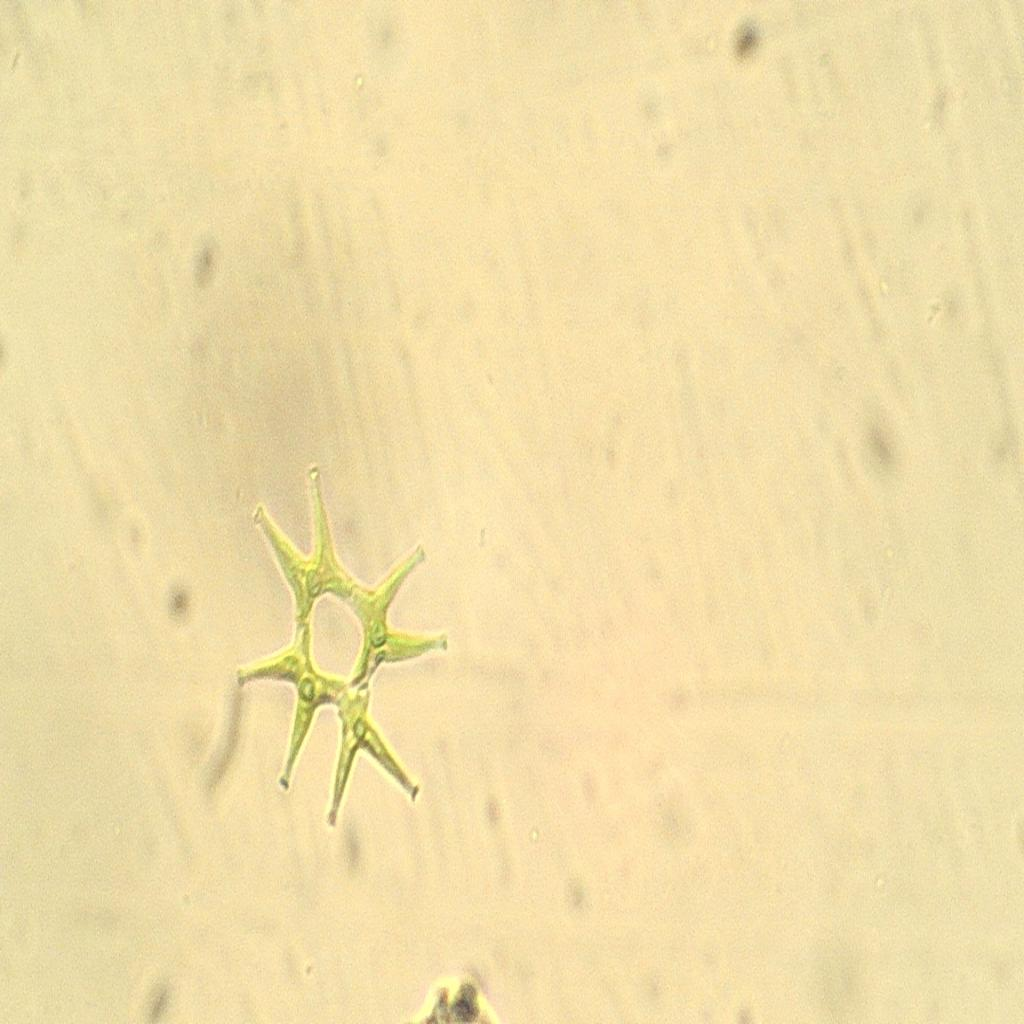Pediastrum_CF: (221, 443, 453, 849)
